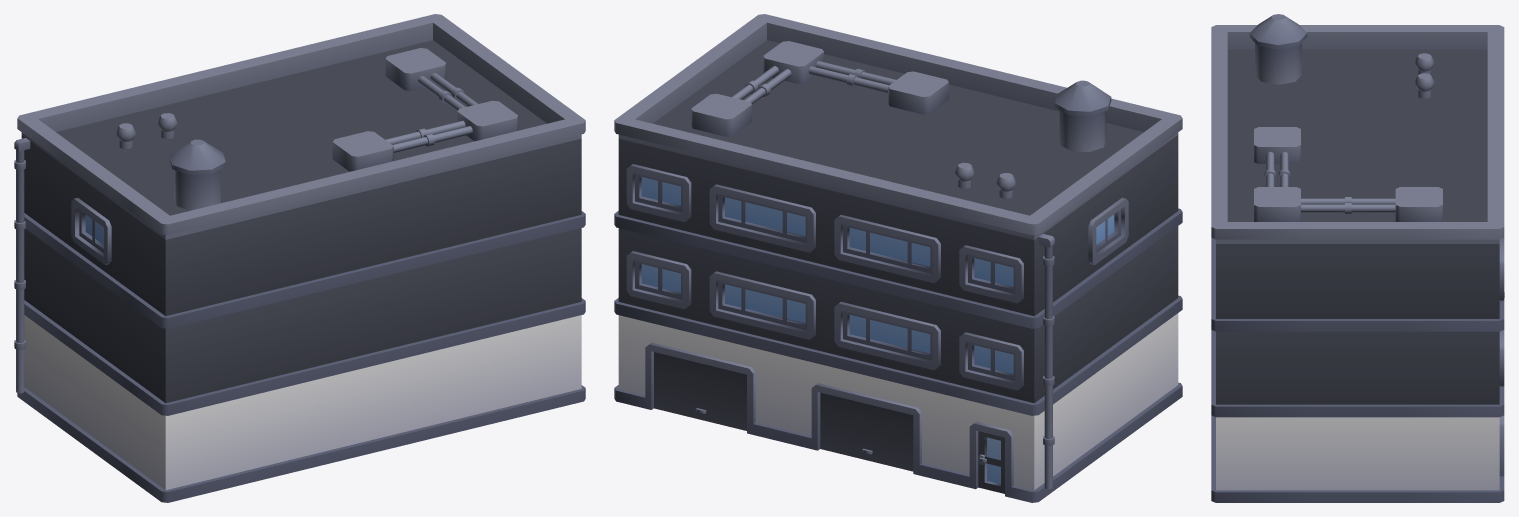
Rendered from building-a.fbx.
The picture shows the model from 3 angles, left to right: view 1: azimuth 30°, elevation 25°; view 2: azimuth 150°, elevation 25°; view 3: azimuth 270°, elevation 25°; orthographic projection.
Visible parts, largest first — view 1: building-a; view 2: building-a; view 3: building-a.
Part boxes in pixels (bbox=[...]): building-a: bbox=[14, 14, 585, 502]; building-a: bbox=[614, 14, 1182, 502]; building-a: bbox=[1211, 14, 1504, 502].
Size of the model in its own units: 208 by 147 by 124.
1 material, 1 textured.
